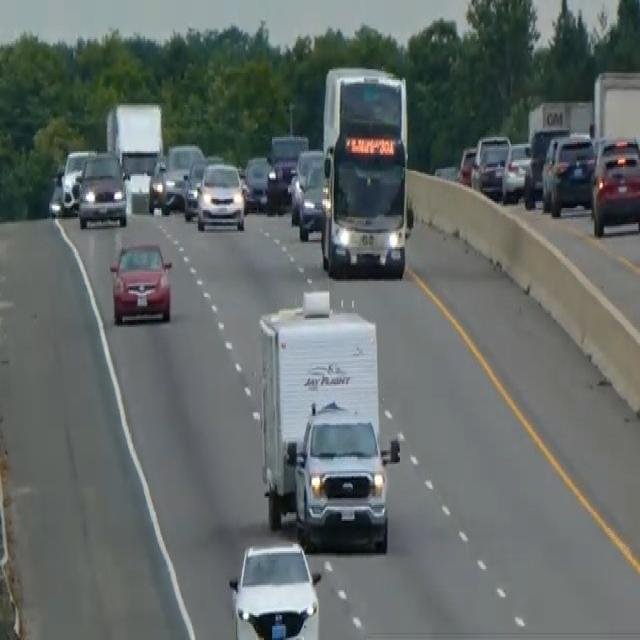bus: (318, 62, 412, 279)
car: (227, 539, 322, 638), (108, 238, 173, 326), (590, 138, 639, 236), (541, 130, 596, 215), (77, 150, 127, 230), (523, 124, 569, 204), (196, 158, 245, 231), (290, 148, 325, 240), (267, 132, 308, 210), (162, 142, 203, 212), (470, 134, 510, 198), (59, 148, 94, 214), (501, 138, 533, 202), (242, 153, 273, 211), (182, 156, 206, 218), (147, 155, 167, 213), (48, 163, 65, 217), (457, 144, 476, 187)
truck: (254, 286, 401, 551)
